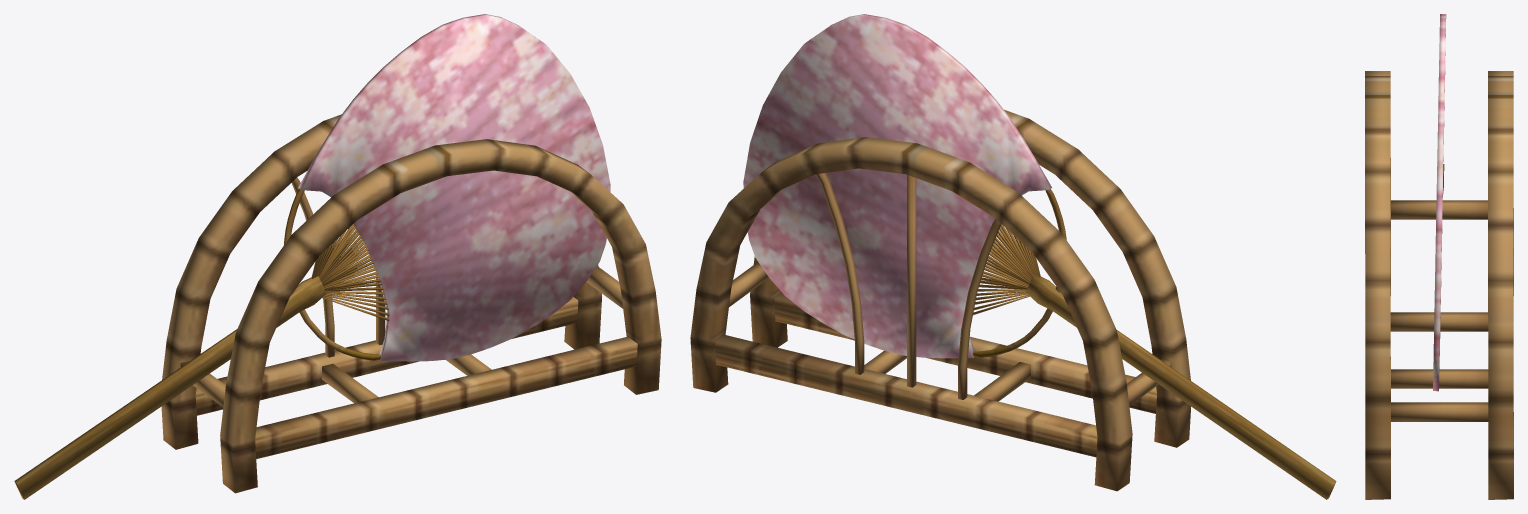
The model's file is Uchiwa1.d.fbx.
The picture shows the model from 3 angles, left to right: view 1: azimuth 30°, elevation 25°; view 2: azimuth 150°, elevation 25°; view 3: azimuth 270°, elevation 25°; orthographic projection. The views are drawn at different scales.
Parts seen in each view (by area): view 1: Group 0; view 2: Group 0; view 3: Group 0.
Part boxes in pixels (x1,y1,x2,y2): Group 0: (14, 14, 661, 499); Group 0: (690, 14, 1336, 499); Group 0: (1365, 14, 1513, 499).
Bounding box in the file's own units: 46.77 × 28.04 × 9.57.
1 material, 1 textured.
